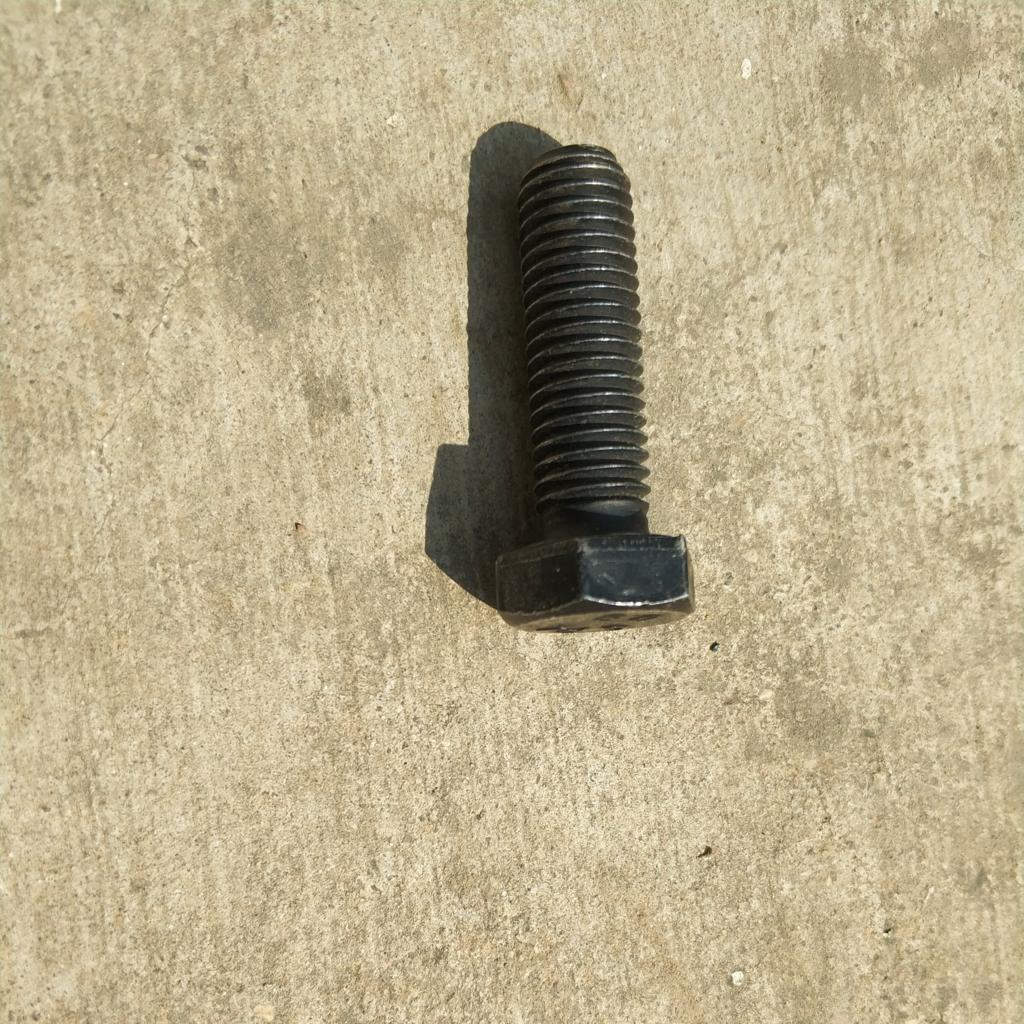screwtype2black: (476, 138, 709, 641)
